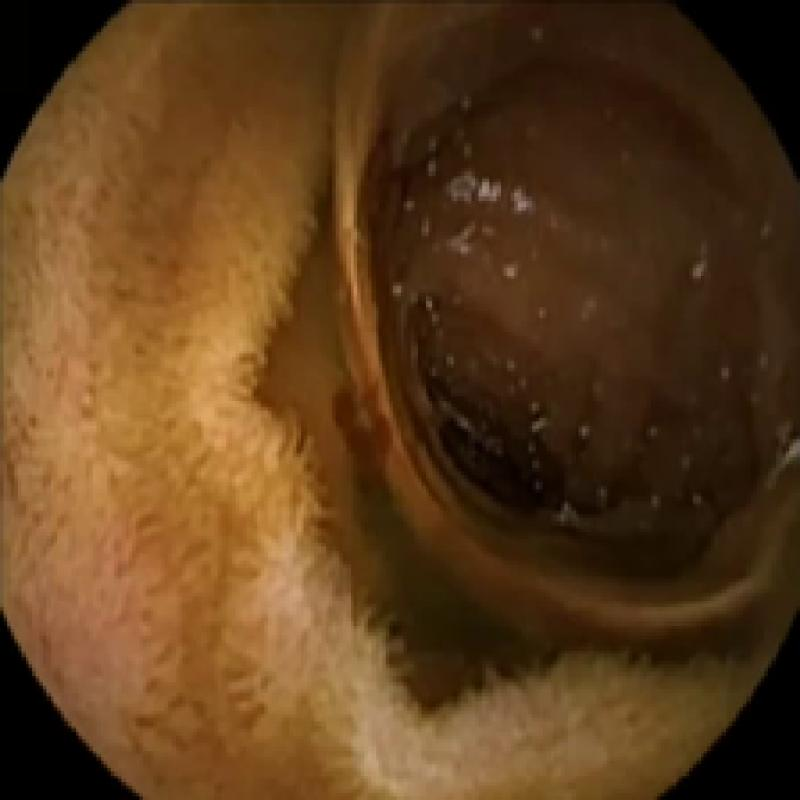bleeding: (332, 53, 739, 493)
